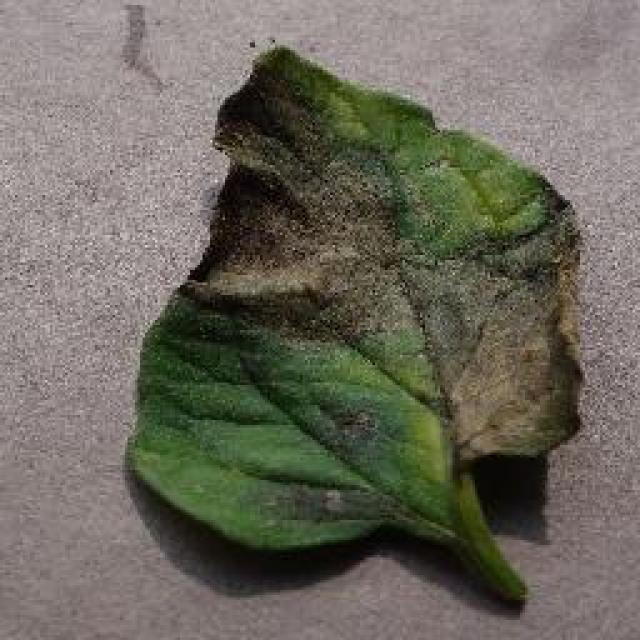Tomato late blight leaf: (131, 44, 589, 611)
